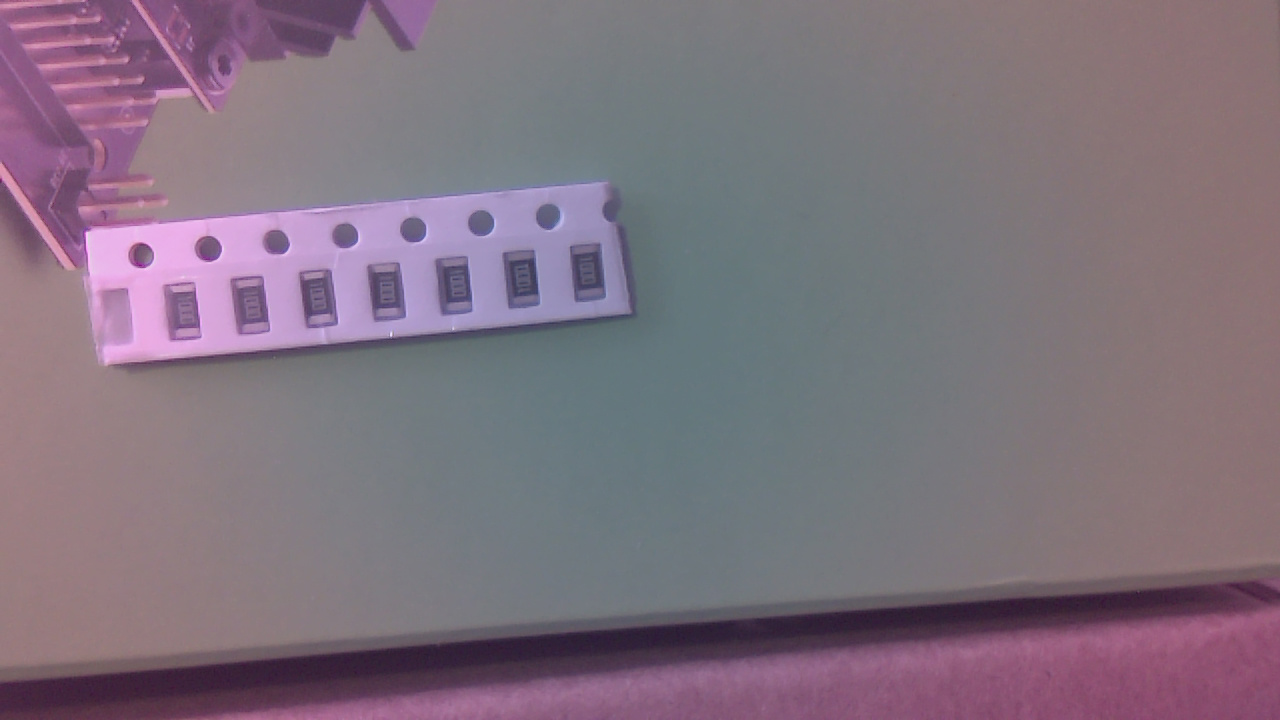Resistor: (370, 266, 412, 325), (508, 254, 547, 314), (573, 247, 610, 308), (238, 281, 275, 339), (305, 275, 341, 332), (443, 261, 478, 319), (172, 290, 207, 347)
